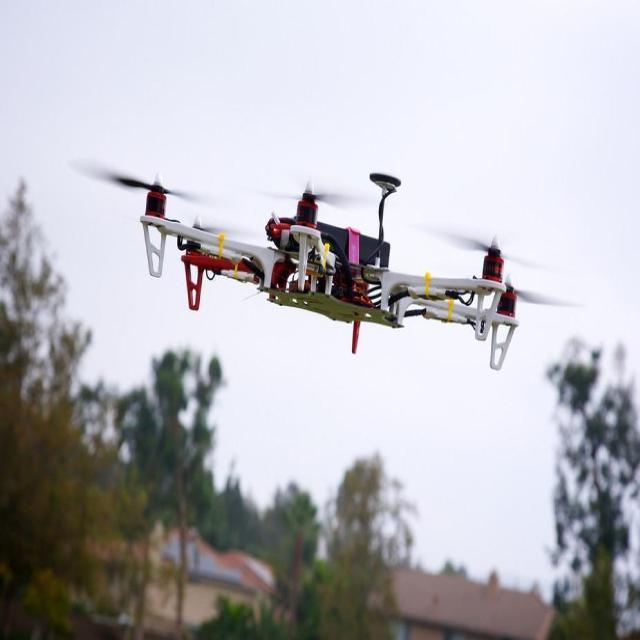drone: (137, 170, 523, 376)
